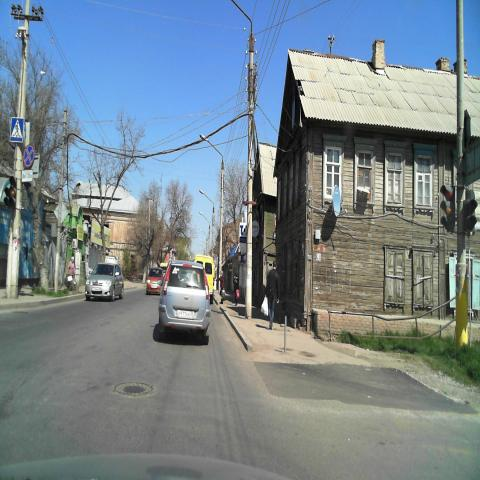8_5_4: (22, 170, 32, 182)
